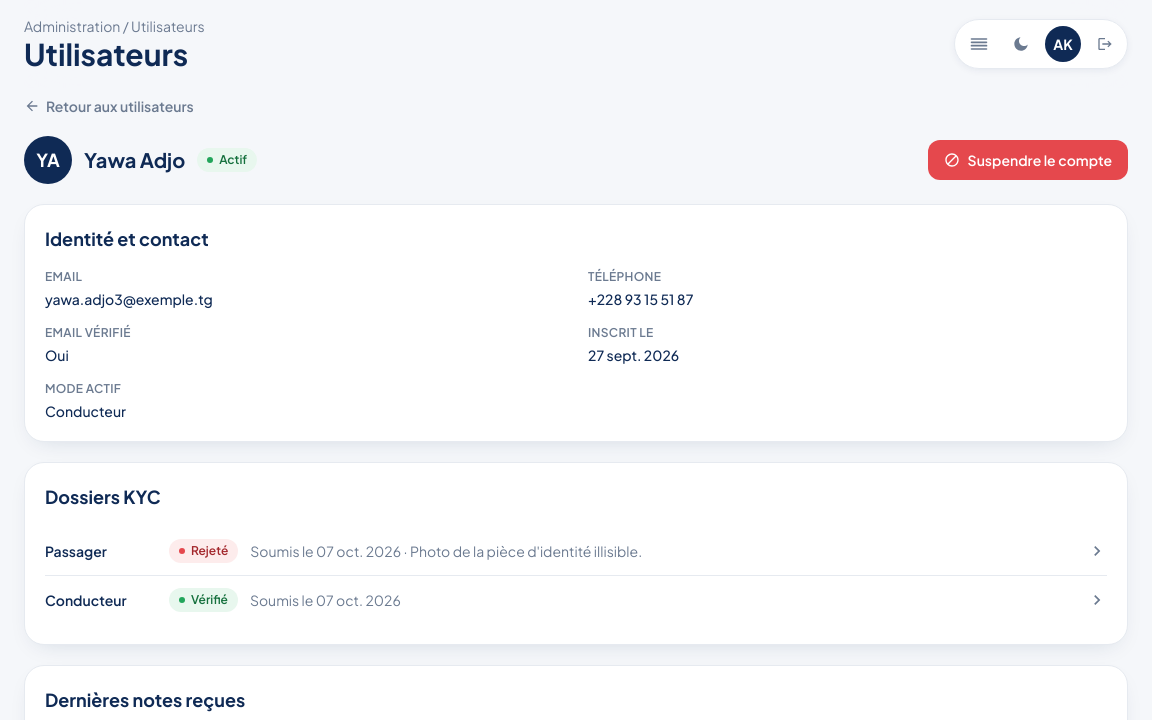
fiche utilisateur › suspend un compte avec motif et durée, et annonce les réservations annulées
Click the button "Suspendre le compte". click: [1028, 160]
box: [928, 140, 1128, 180]
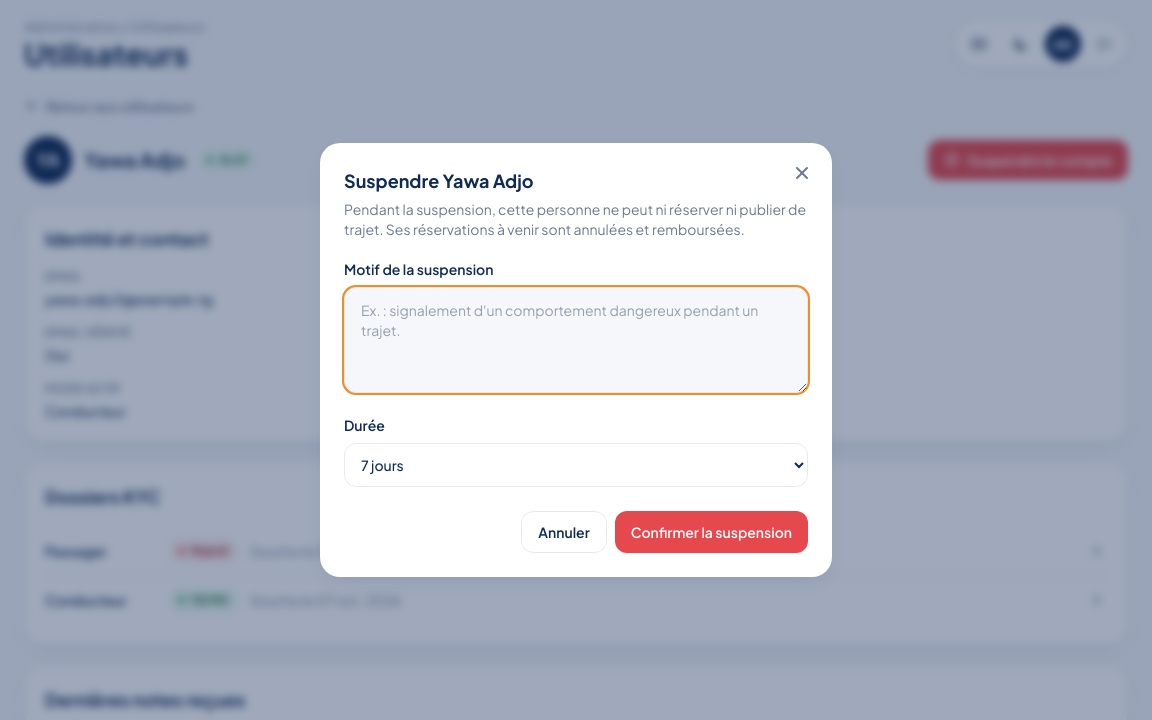
Expected: the dialog "Suspendre Yawa Adjo" shows "réservations à venir sont annulées et remboursées", [344, 200, 806, 238]
Click the button "Confirmer la suspension". click: [711, 532]
box: [615, 511, 808, 553]
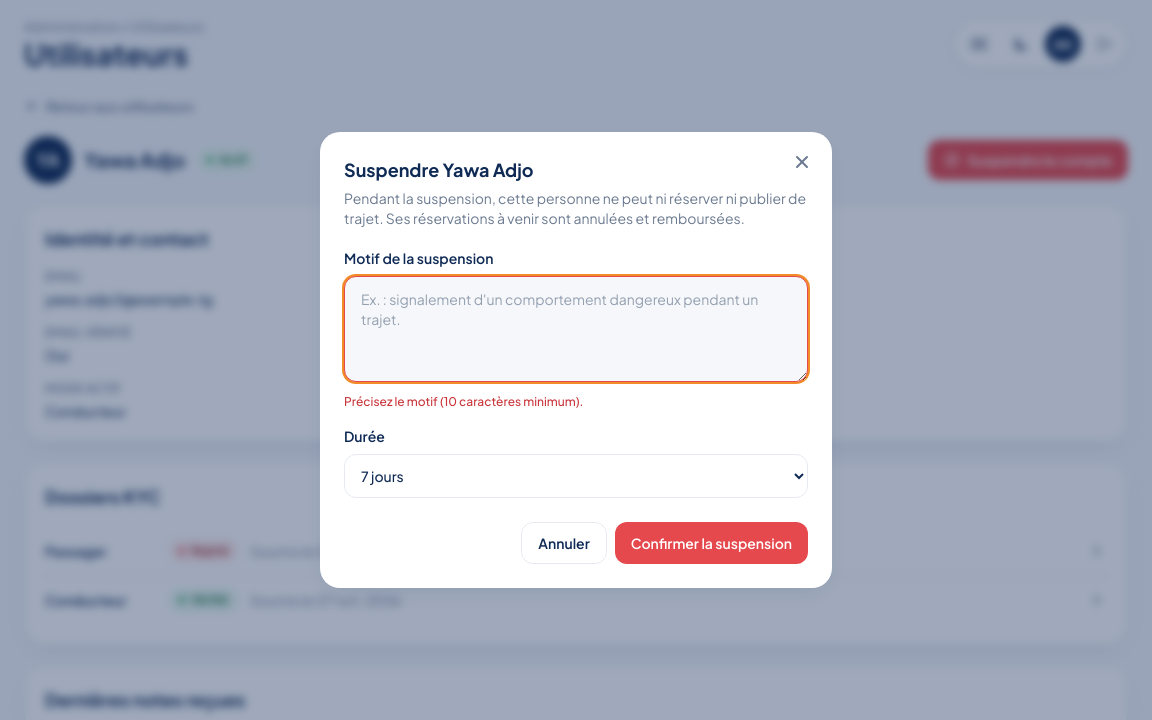
Expected: the text "Précisez le motif (10 caractères minimum)." is shown, [344, 394, 583, 409]
Type "Comportement dangereux signalé" into the text box labelled "Motif de la suspension". click: [576, 329]
box: [344, 276, 808, 382]
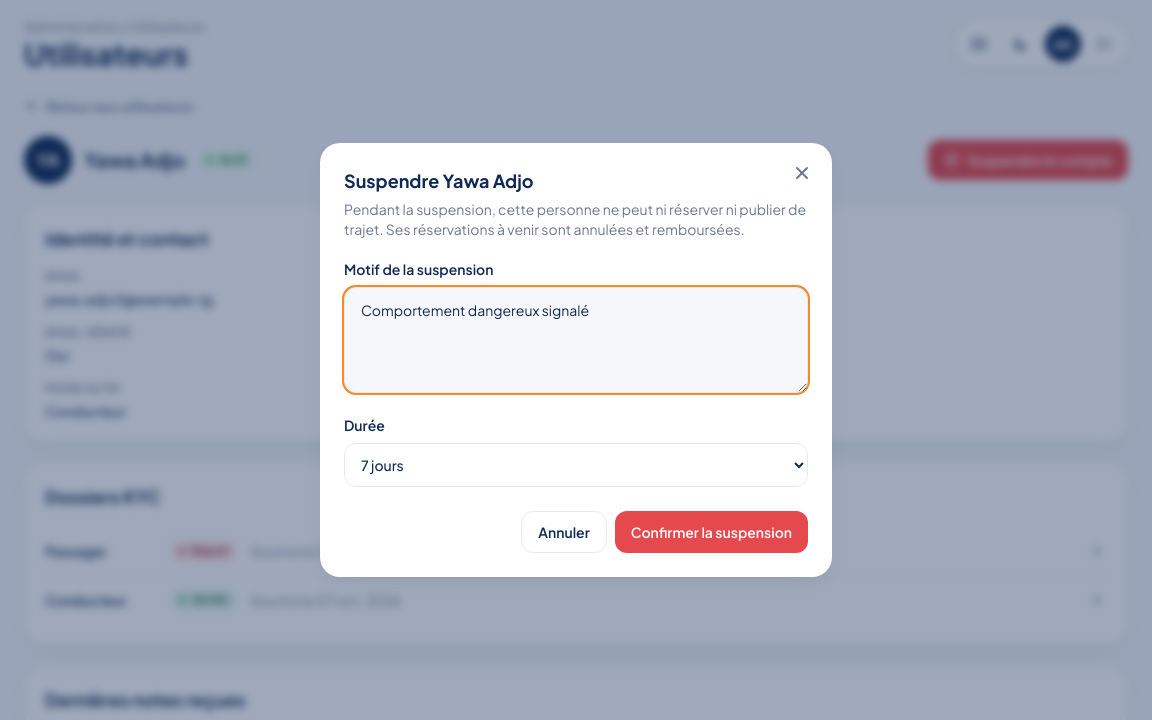
Select "30 jours" in the dropdown labelled "Durée". click: [576, 465]
box: [344, 443, 808, 487]
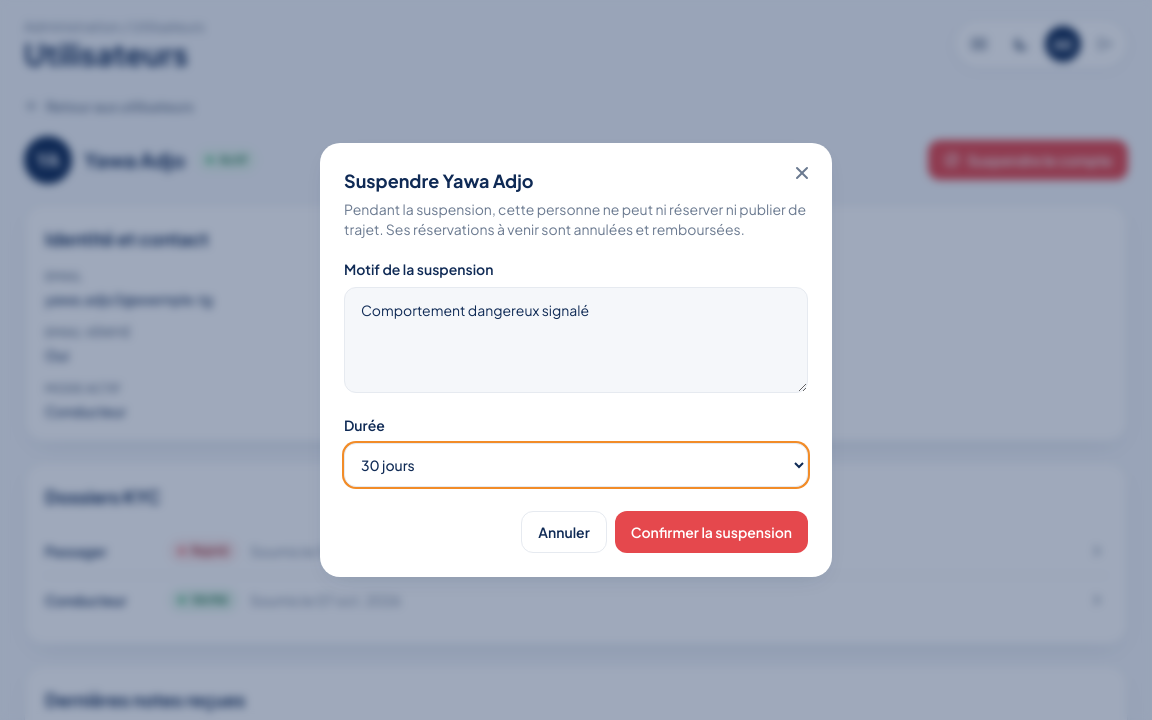
Click the button "Confirmer la suspension". click: [711, 532]
box: [615, 511, 808, 553]
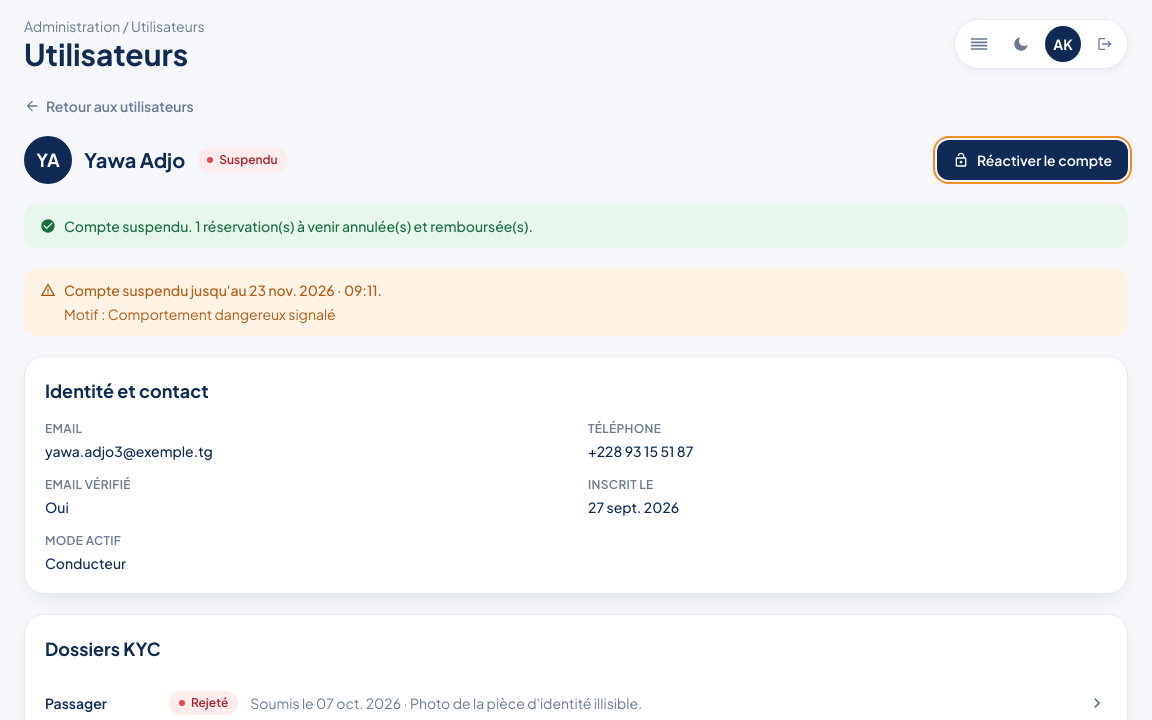
Expected: the text "Compte suspendu. 1 réservation(s) à venir annulée(s) et remboursée(s)." is shown, [64, 216, 533, 236]
Expected: the text "Motif : Comportement dangereux signalé" is shown, [64, 304, 382, 324]
Expected: the button "Réactiver le compte" is shown, [937, 140, 1128, 180]
